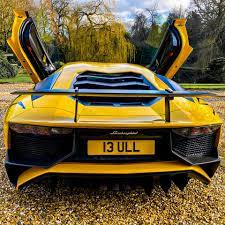number_plates: (89, 140, 155, 155)
